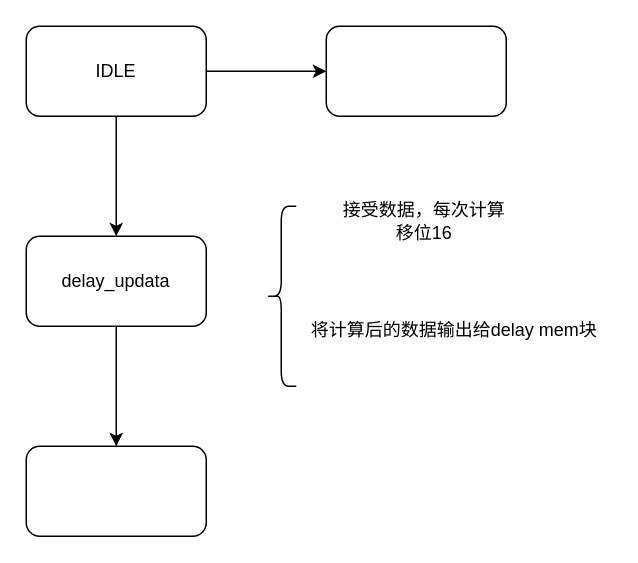
This 638x563 diagram has some shape labels left out. The centre of each missing label's shape, as x and y in pixels:
"delay mem块 复位" belongs at (415,70).
"wait_next_delay" belongs at (115,490).
